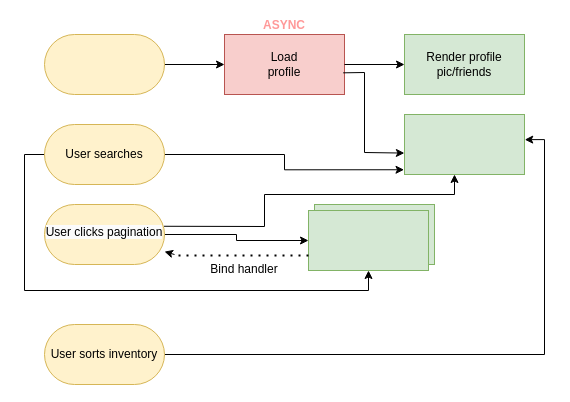
The diagram is 570 pixels wide and 402 high, and some of its shapes have lost their labels. The centre of each missing label's shape, as x and y in pixels:
"Render inventory" goes at (464,144).
"Render page numbers(i.e: 2/7)" goes at (368,240).
"User logins/provide steamid64" goes at (104,64).
